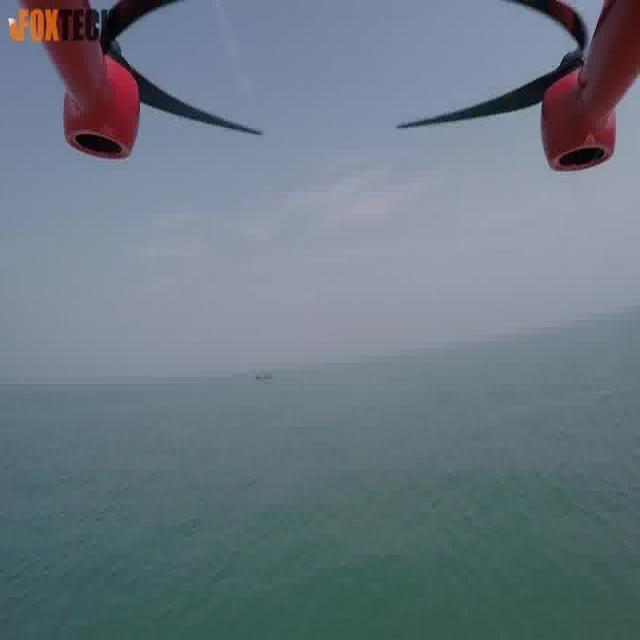drone: (14, 5, 640, 169)
